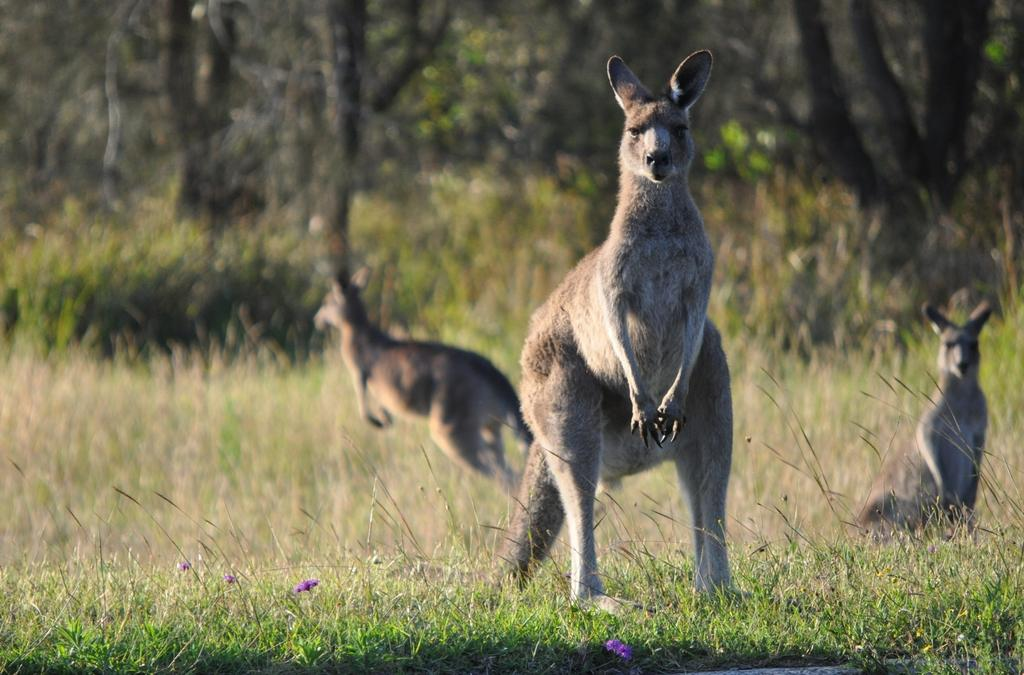kangaroo: (482, 50, 750, 628), (312, 268, 534, 488), (860, 304, 994, 516)
